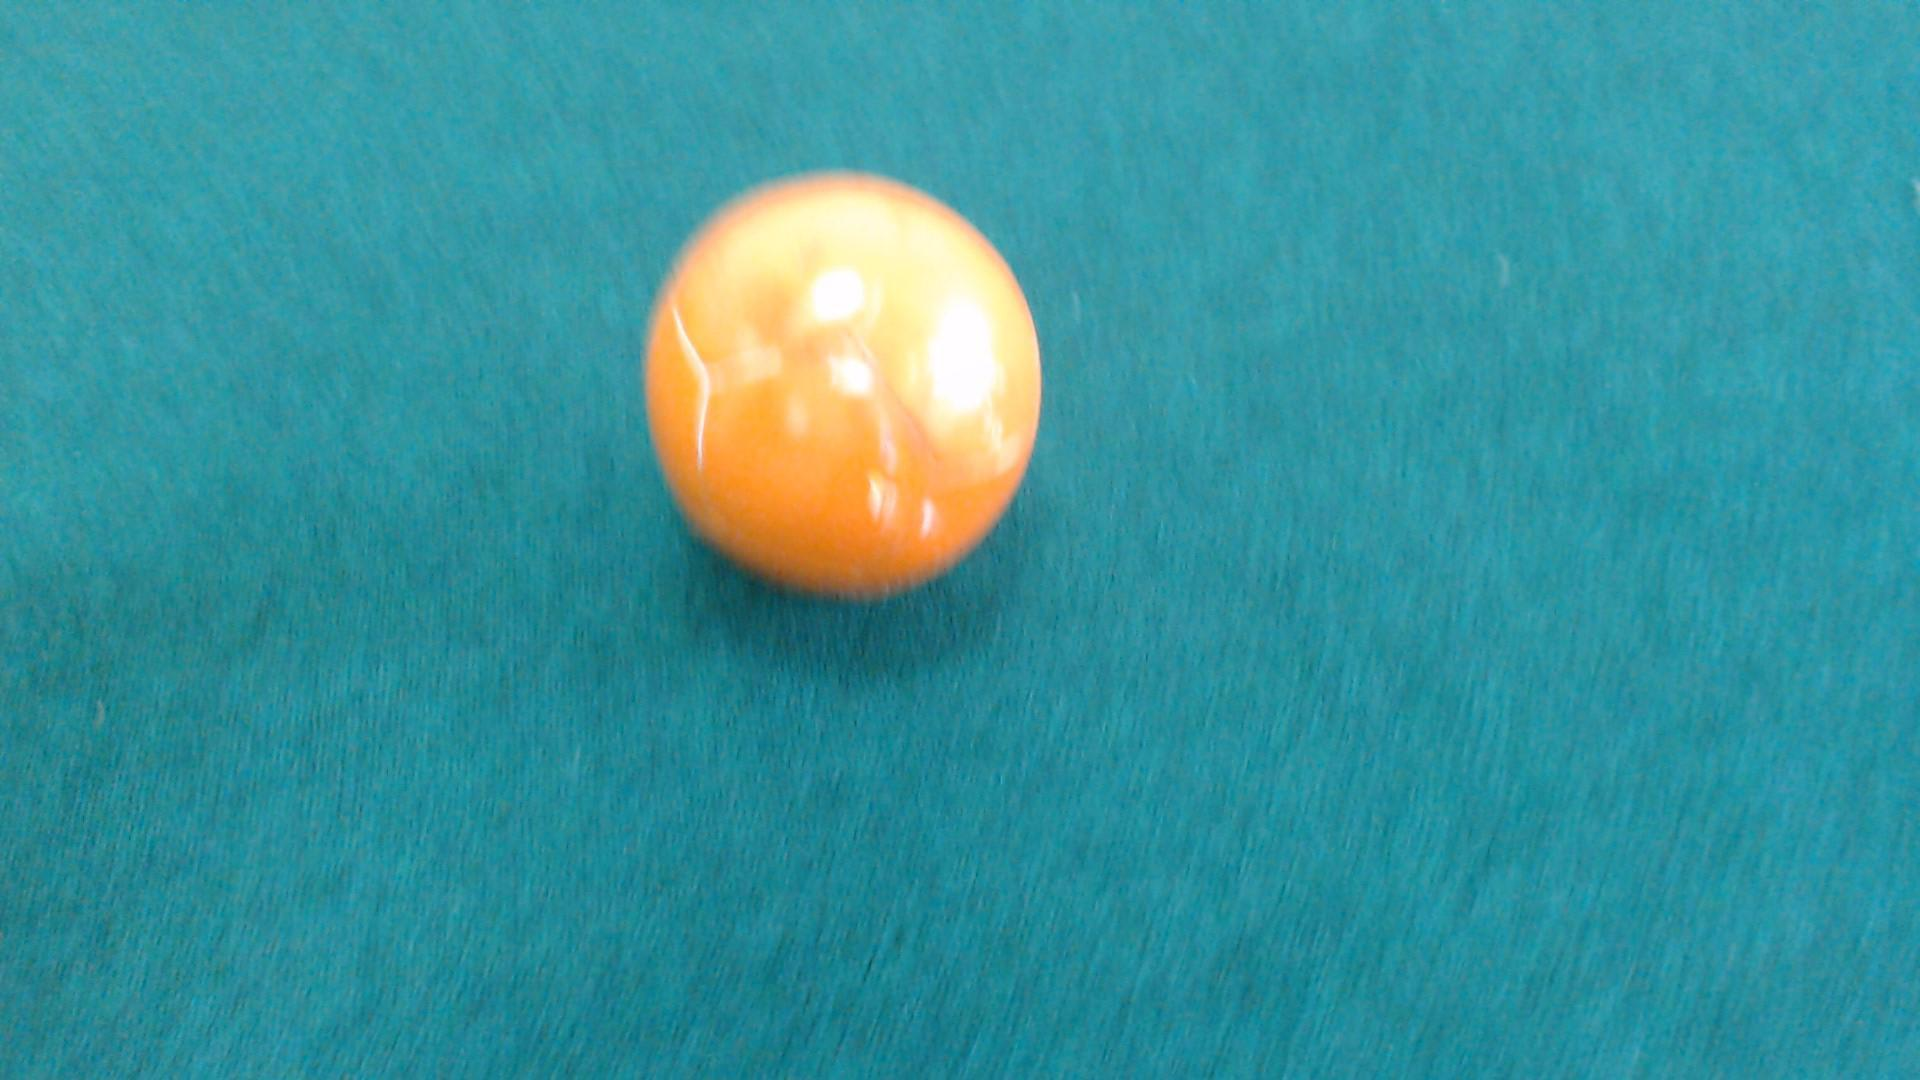bola: (599, 153, 1069, 636)
